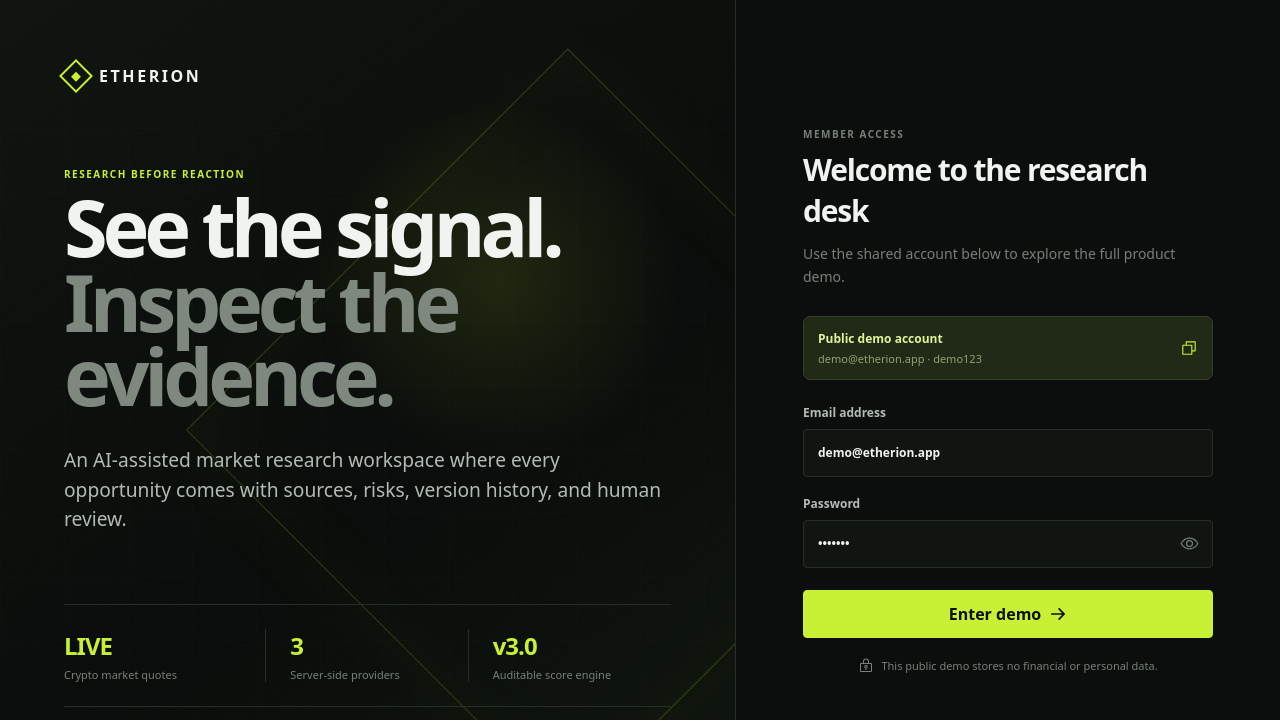
Test: Etherion demo access › rejects incorrect credentials without revealing account details
This screenshot has width=1280, height=720.
In the password field labelled "Password": (1008, 544) [803,520,1213,568], type "wrong-password"
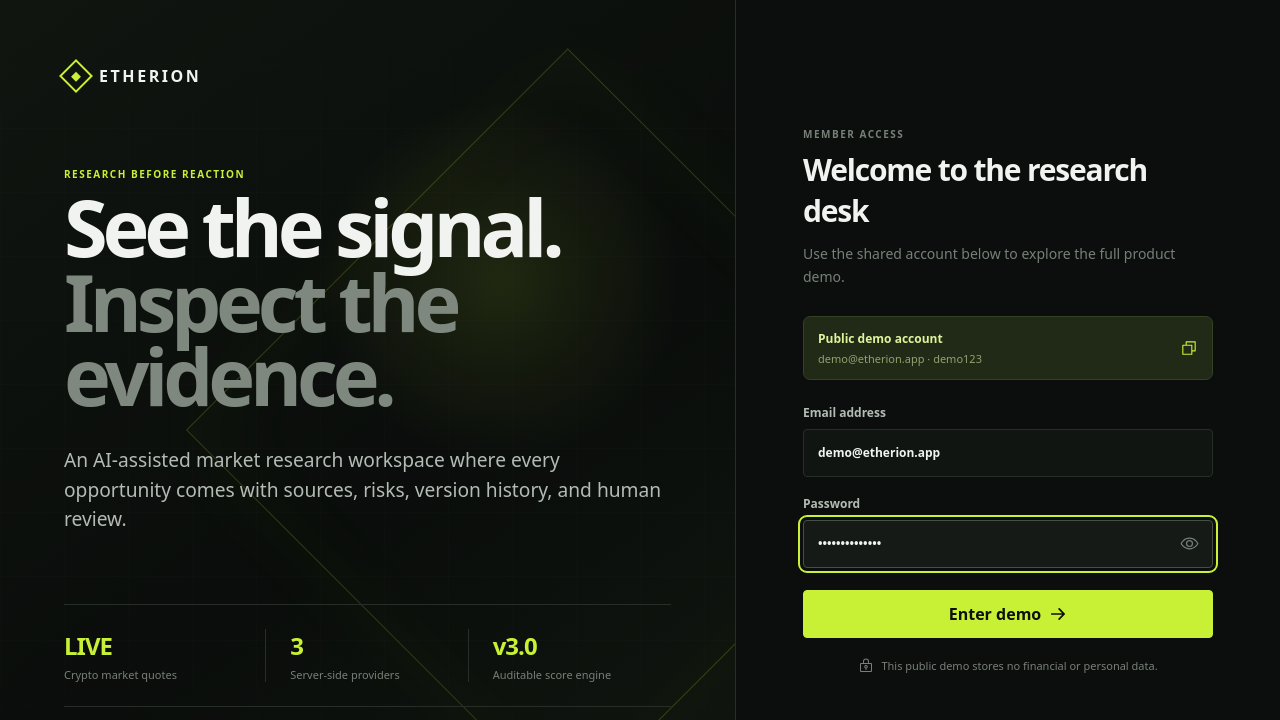
Click the button "Enter demo": (1008, 614) [803,590,1213,638]
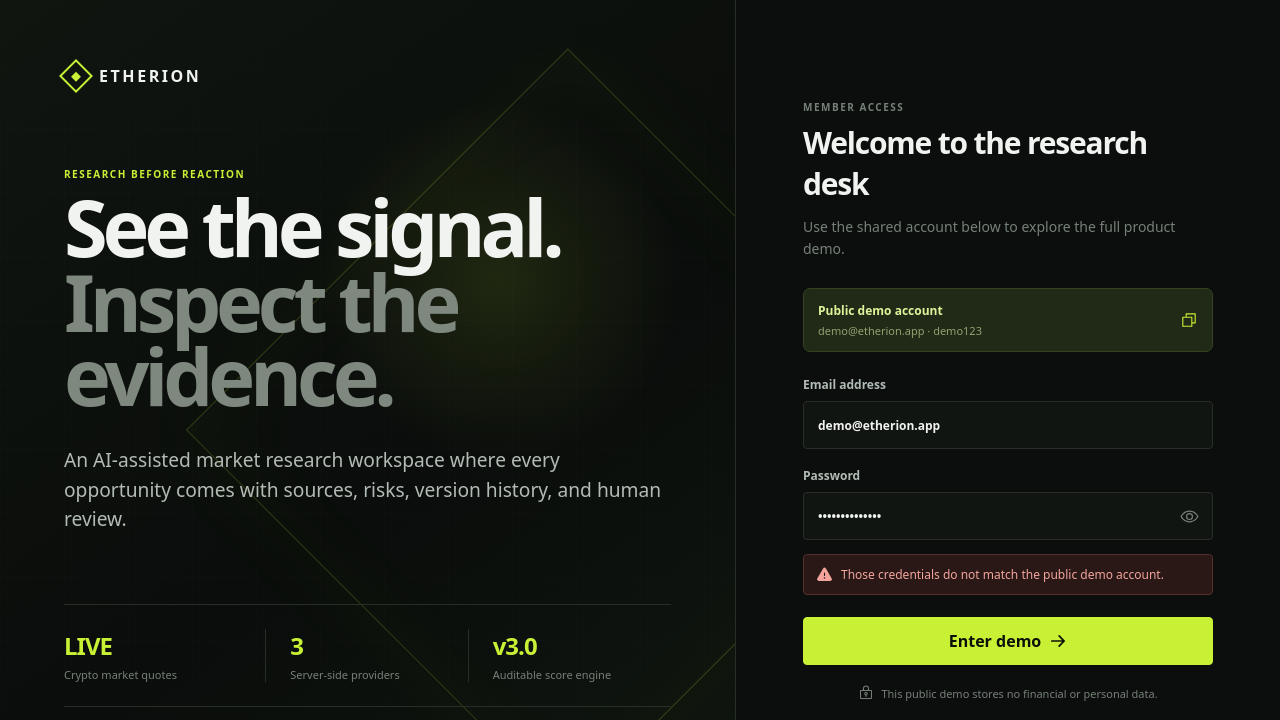
Expected: the message shows "do not match", [841,566,1164,583]
